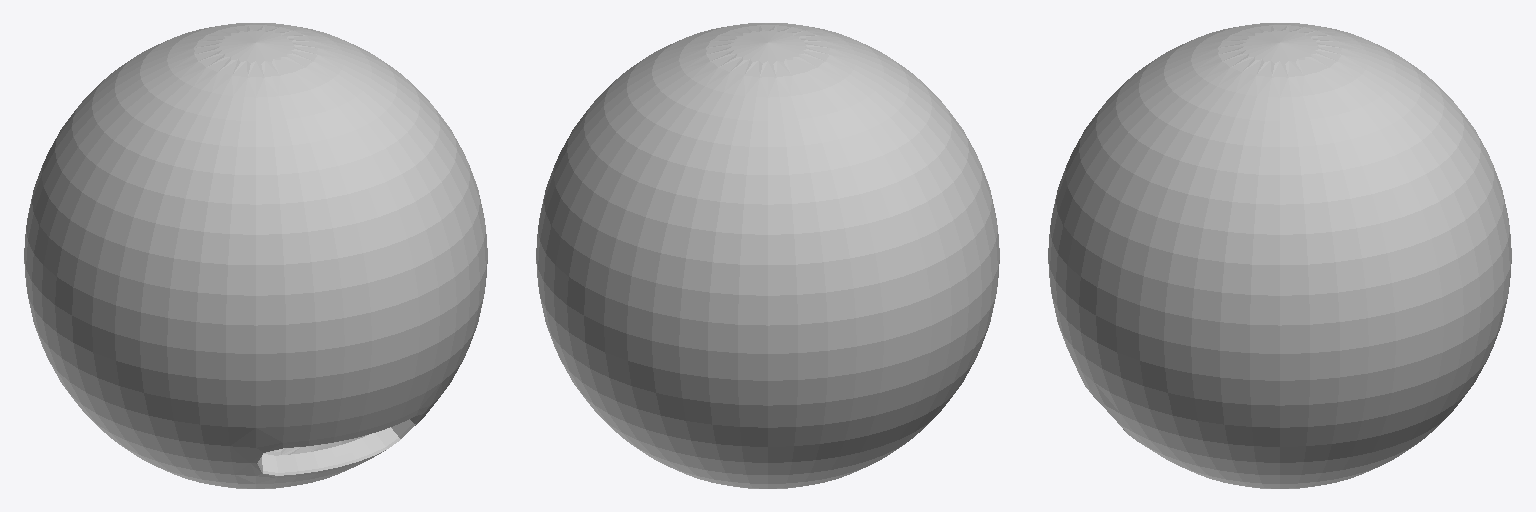
3 renders of one model, left to right at view 1: azimuth 30°, elevation 25°; view 2: azimuth 150°, elevation 25°; view 3: azimuth 270°, elevation 25°, orthographic.
Parts seen in each view (by area): view 1: peg_head_ui pegman_head peg_head HyperNURBS_1 HEAD; view 2: peg_head_ui pegman_head peg_head HyperNURBS_1 HEAD; view 3: peg_head_ui pegman_head peg_head HyperNURBS_1 HEAD.
Part boxes in pixels (left/top/right/bottom): peg_head_ui pegman_head peg_head HyperNURBS_1 HEAD: left=24, top=23, right=487, bottom=488; peg_head_ui pegman_head peg_head HyperNURBS_1 HEAD: left=536, top=23, right=999, bottom=488; peg_head_ui pegman_head peg_head HyperNURBS_1 HEAD: left=1048, top=23, right=1511, bottom=488.
Size of the model in its own units: 88.94 by 90.26 by 88.94.